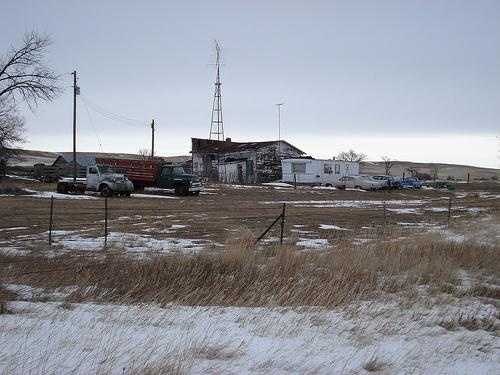car: (321, 175, 386, 192)
